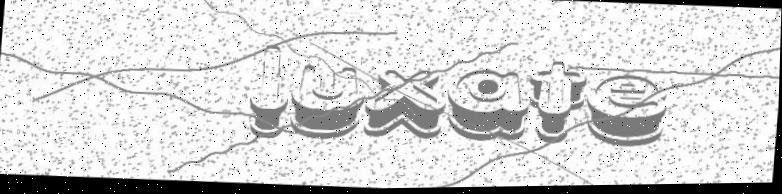a: (446, 64, 534, 142)
e: (584, 72, 672, 153)
l: (246, 41, 294, 137)
t: (527, 61, 589, 149)
u: (287, 56, 364, 142)
x: (362, 63, 451, 143)
